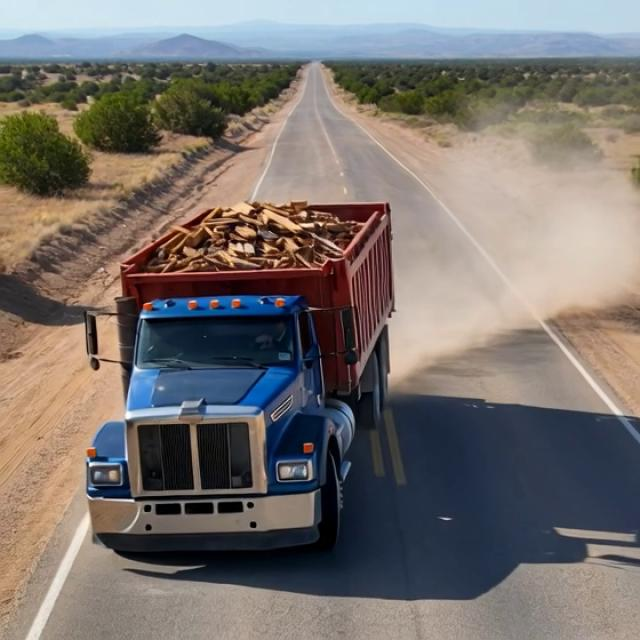Box: (98, 196, 404, 288)
Truck: (78, 181, 412, 547)
